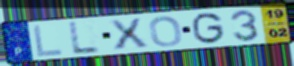3: (229, 9, 262, 42)
G: (191, 11, 226, 45)
L: (68, 21, 103, 56), (32, 23, 65, 58)
O: (148, 15, 184, 48)
X: (107, 17, 151, 52)
